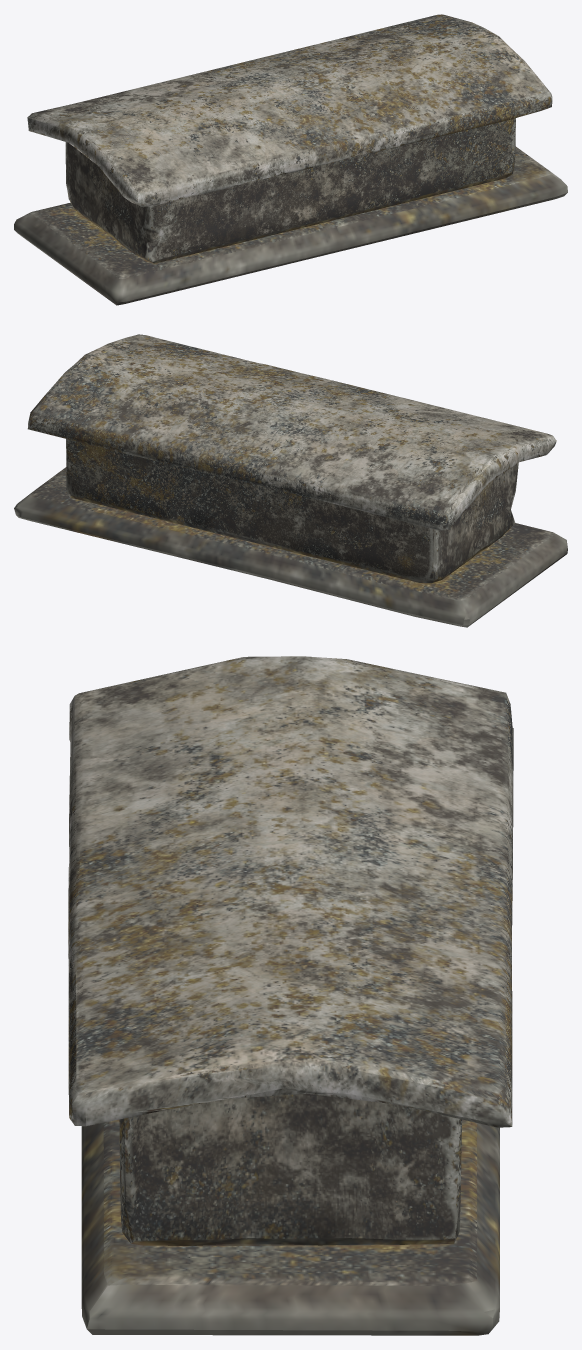
The model's file is SM_Cemetery01.fbx.
The picture shows the model from 3 angles, top to bottom: view 1: azimuth 30°, elevation 25°; view 2: azimuth 150°, elevation 25°; view 3: azimuth 270°, elevation 25°; orthographic projection. The views are drawn at different scales.
Visible parts, largest first — view 1: SM_Cemetery01_LOD0; view 2: SM_Cemetery01_LOD0; view 3: SM_Cemetery01_LOD0.
Part boxes in pixels (x1,y1,x2,y2): SM_Cemetery01_LOD0: [14, 14, 567, 305]; SM_Cemetery01_LOD0: [14, 334, 567, 627]; SM_Cemetery01_LOD0: [68, 656, 513, 1335].
Size of the model in its own units: 250 by 106 by 70.22.
